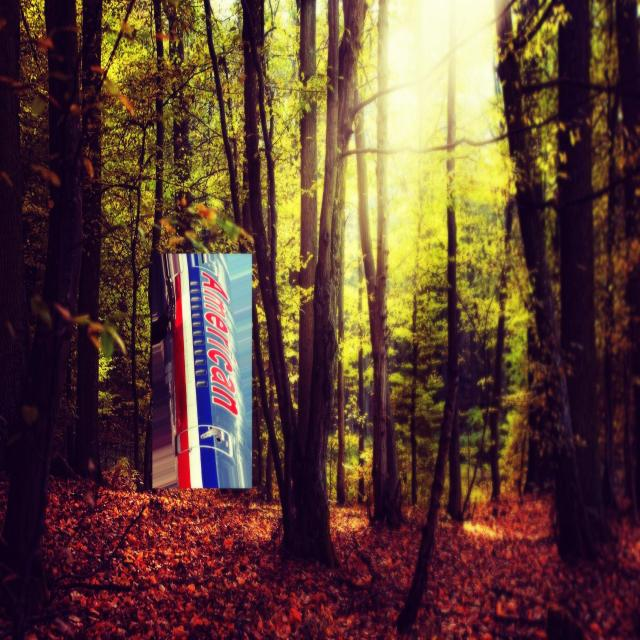airplane: (145, 249, 252, 491)
